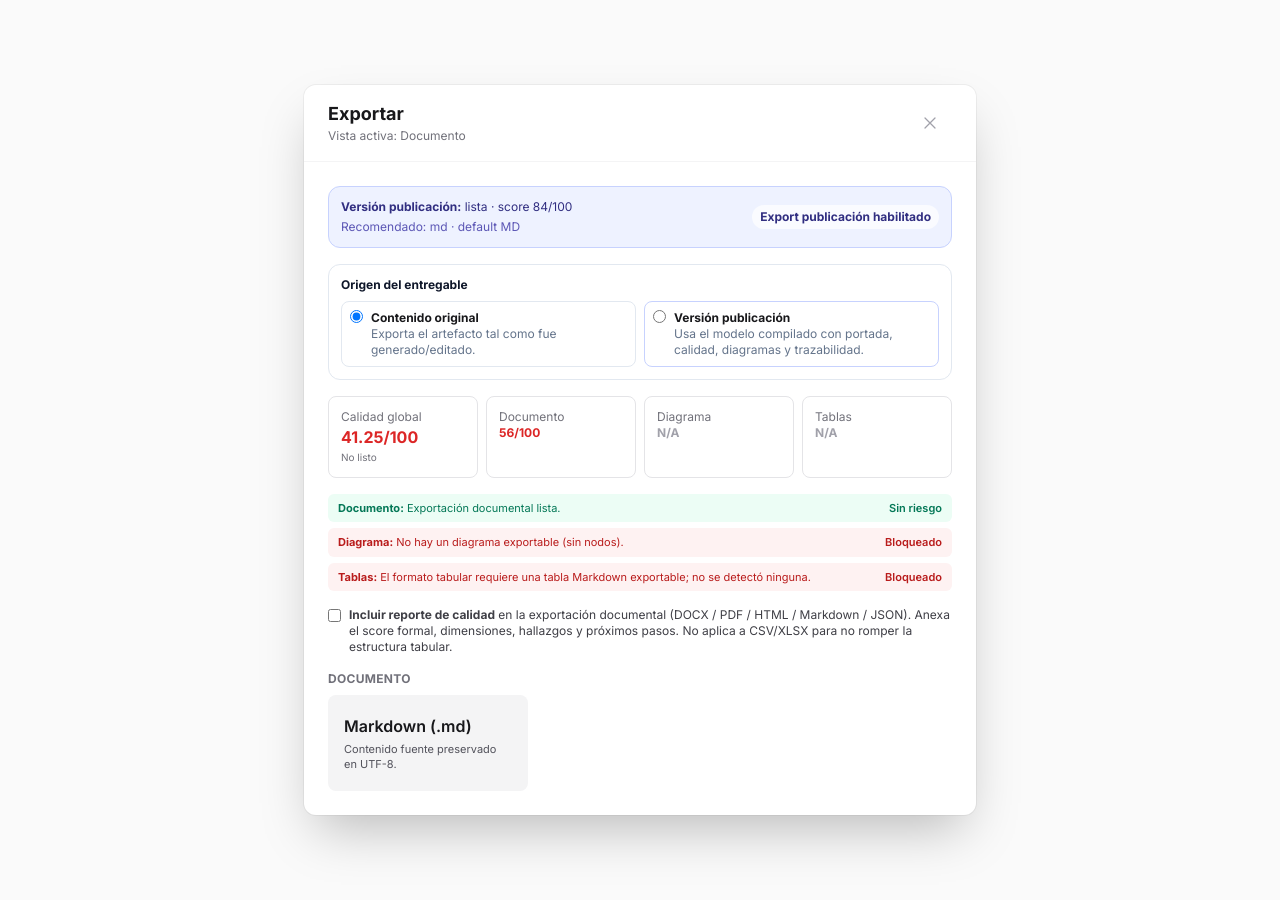
Test: ArtifactExportModal — versión publicación › deshabilita los modos de publicación no aplicables
What coordinates should you click on to do the following:
click the radio button labelled "Versión publicación"
I would click on:
 (660, 316)
Its box is [653, 310, 666, 323].
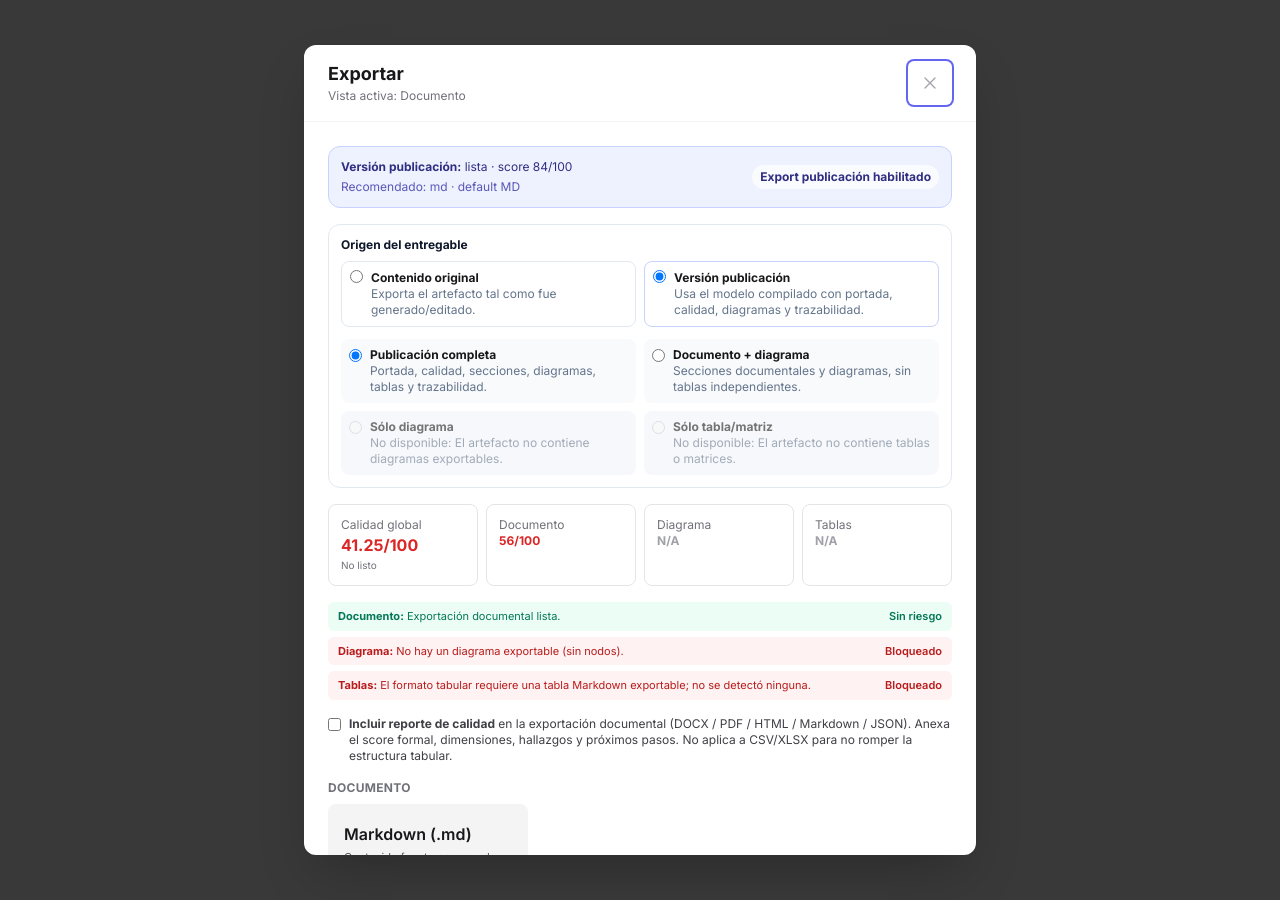
Expected: the radio button labelled "Documento + diagrama" is enabled, [652, 349, 665, 362]
Expected: the radio button labelled "Publicación completa" is enabled, [349, 349, 362, 362]
